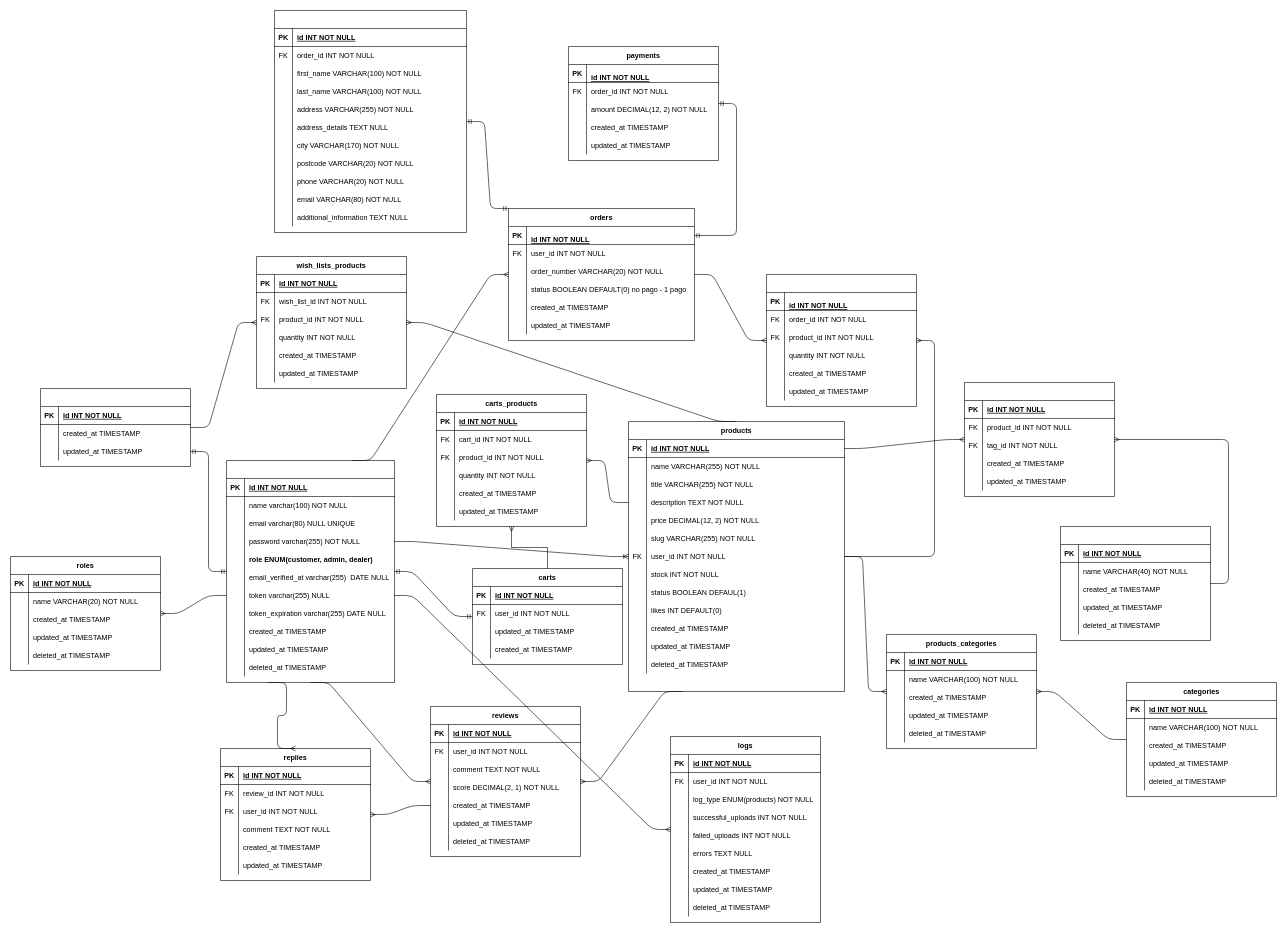
Some shapes in this 1287 by 933 pixel diagram are drawn without their labels. Here are the shapes that lost their labels. From the top down, the box of each, then its label:
(274, 10, 466, 232): billing_datails
(766, 274, 916, 406): orders_products
(40, 388, 190, 466): wish_lists
(964, 382, 1114, 496): products_tags
(226, 460, 394, 682): users
(1060, 526, 1210, 640): tags
